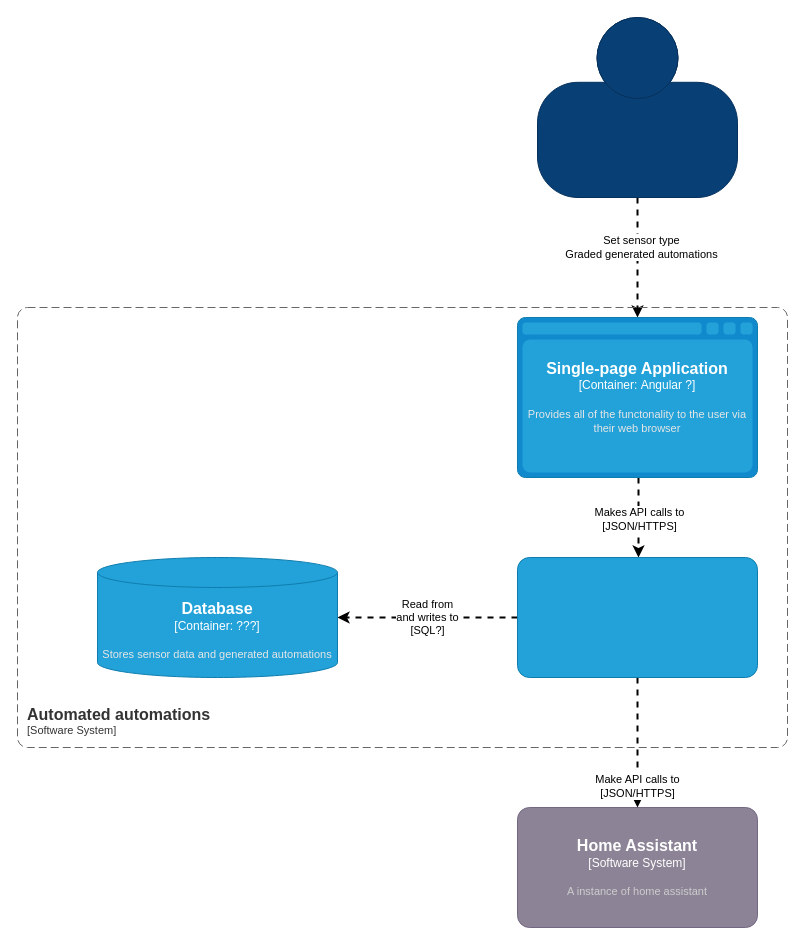
Image size: 805x945. Some labels were removed from this diagram. The centre of each missing label's shape, as x and y in pixels:
"API [Container: Python] Provides functionality via HTTPS API" belongs at pixel 637 617.
"Home Assistant user [Person] A user that wants to automate his home" belongs at pixel 637 107.
